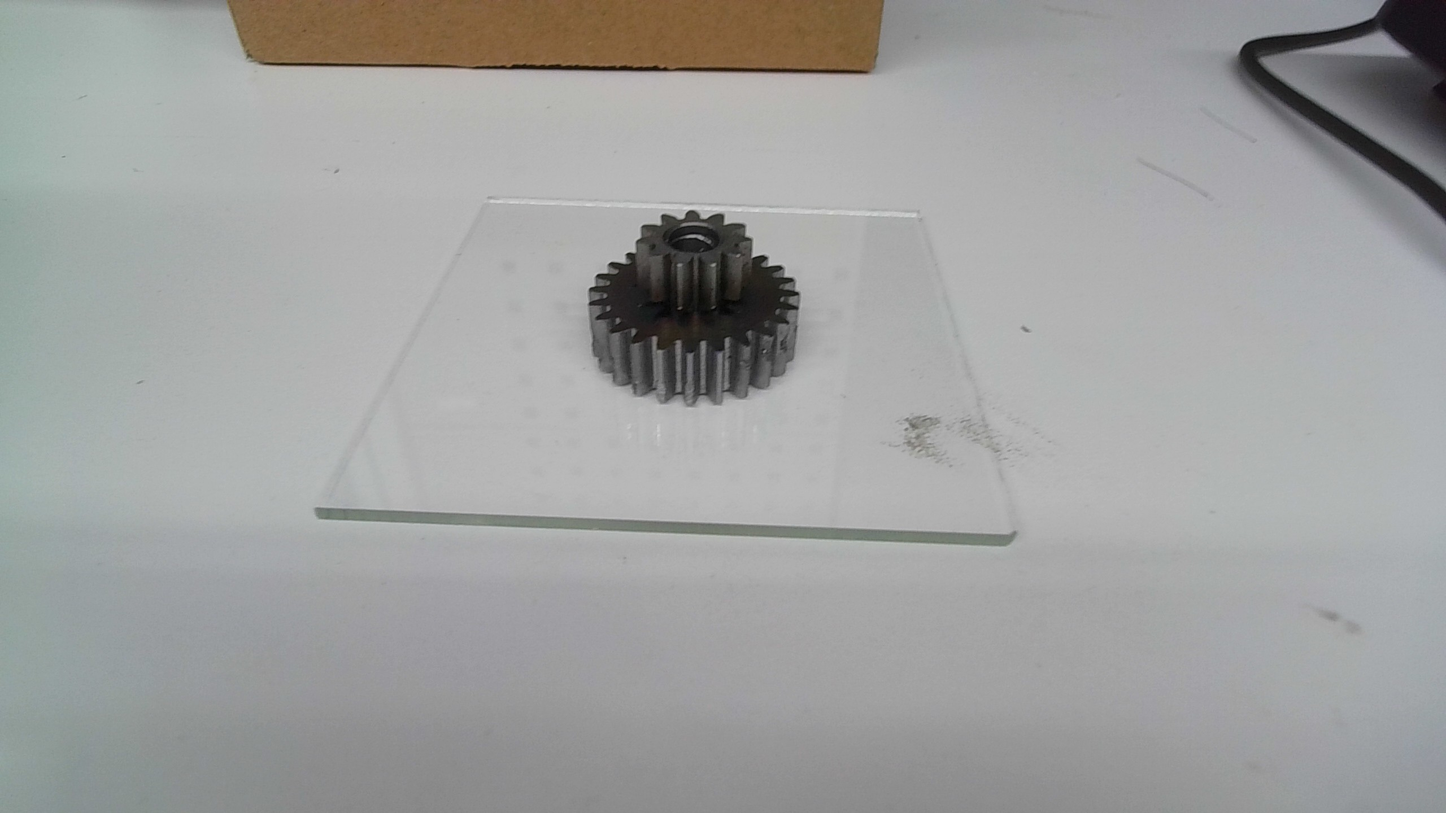gear: (585, 207, 802, 408)
